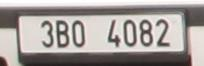0: (122, 18, 138, 47), (72, 19, 86, 48)
2: (154, 19, 171, 47)
3: (39, 20, 54, 49)
4: (106, 18, 121, 49)
8: (139, 19, 153, 47)
B: (56, 18, 71, 48)
